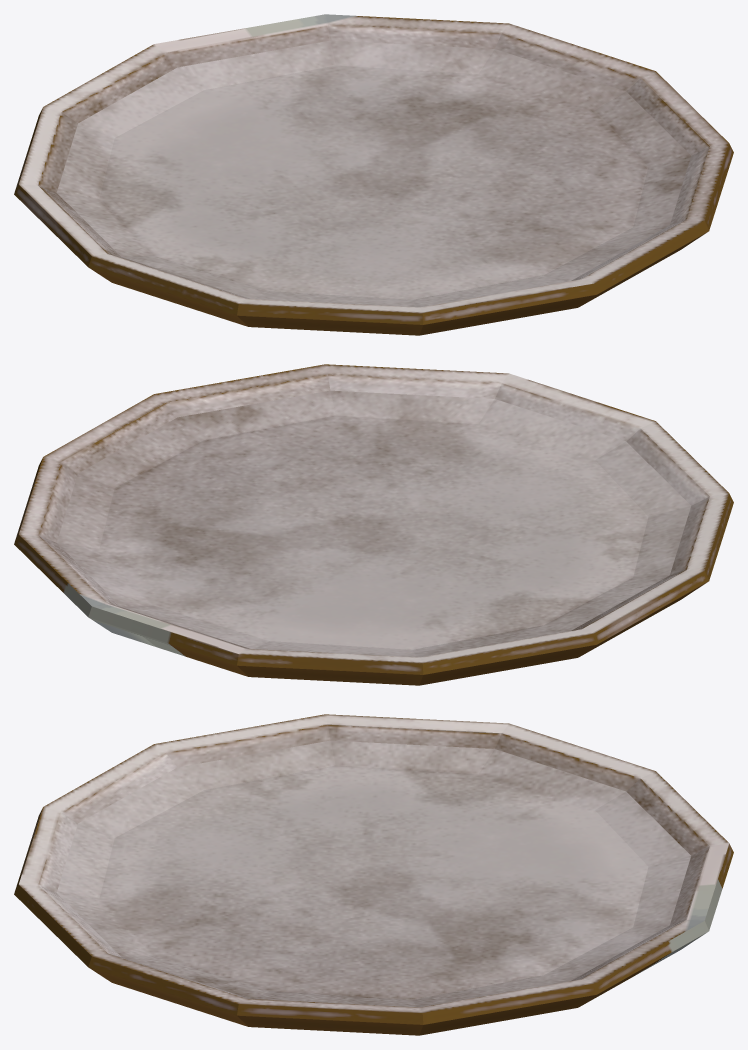
The model's file is plate_1.fbx.
3 views of the same model, one above another, from view 1: azimuth 30°, elevation 25°; view 2: azimuth 150°, elevation 25°; view 3: azimuth 270°, elevation 25° (orthographic).
Visible parts, largest first — view 1: Cylinder; view 2: Cylinder; view 3: Cylinder.
Part boxes in pixels (x1,y1,x2,y2): Cylinder: [14, 14, 733, 335]; Cylinder: [14, 364, 733, 685]; Cylinder: [14, 714, 733, 1035].
Bounding box in the file's own units: 16.61 × 1.7 × 16.67.
